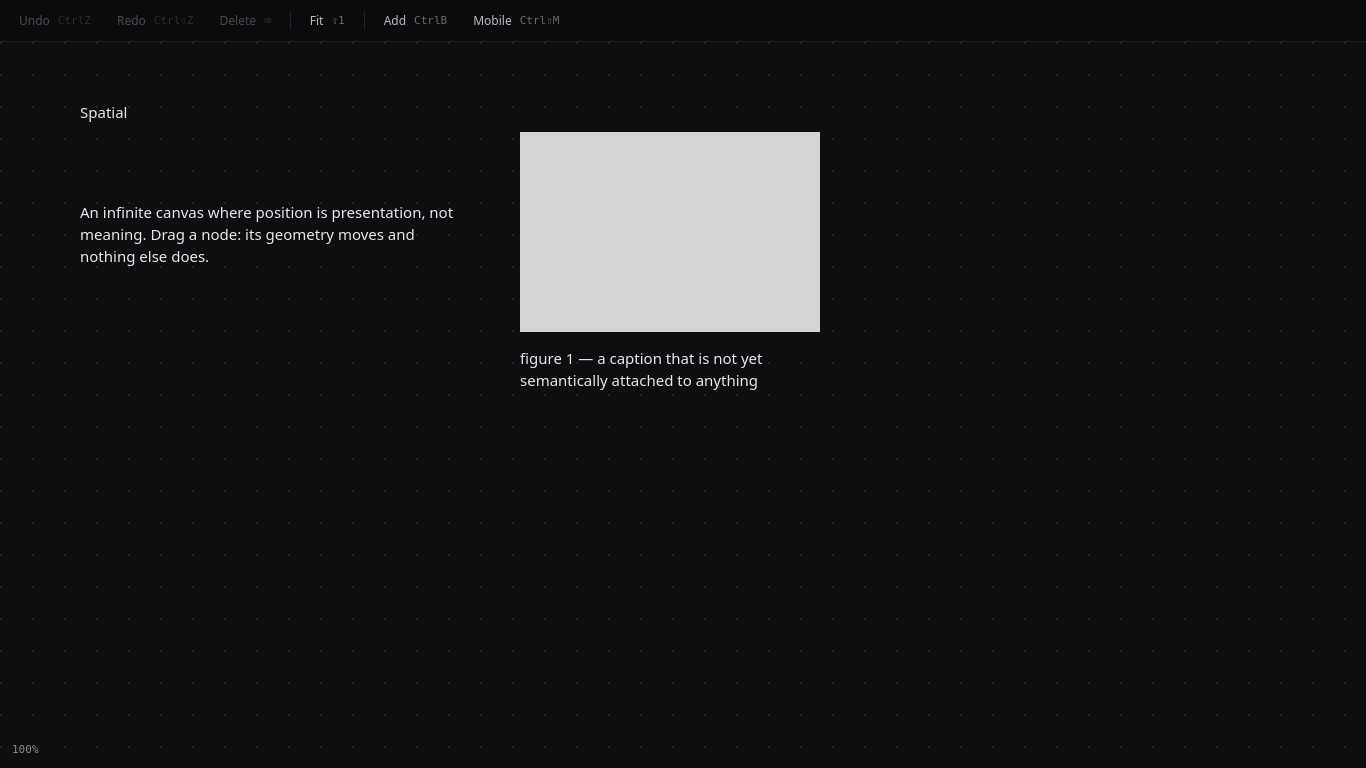
Scenario: adding an image › refuses an unsafe scheme, and says why
Click the button "Add": (415, 20) [373,6,458,35]
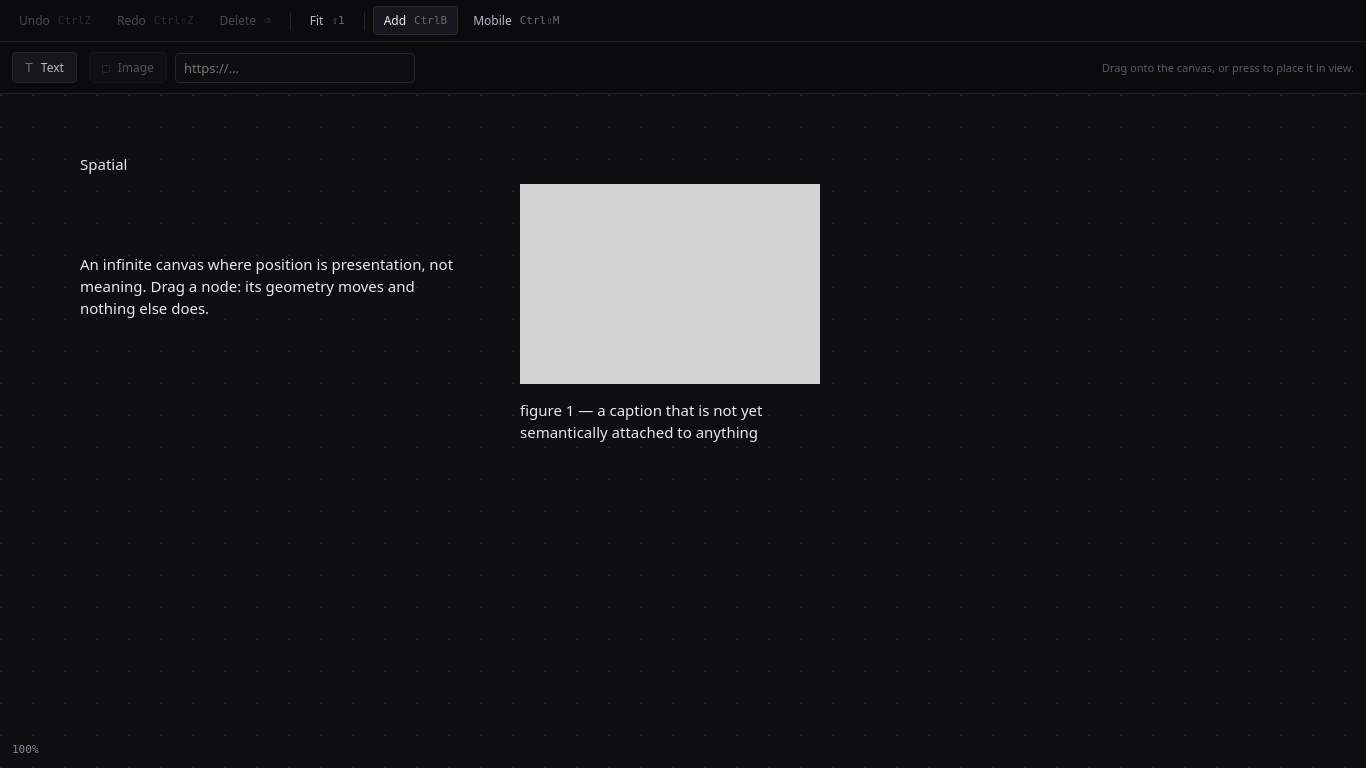
In the field named "image address": (295, 68) [175,52,415,82], type "javascript:alert(1)"
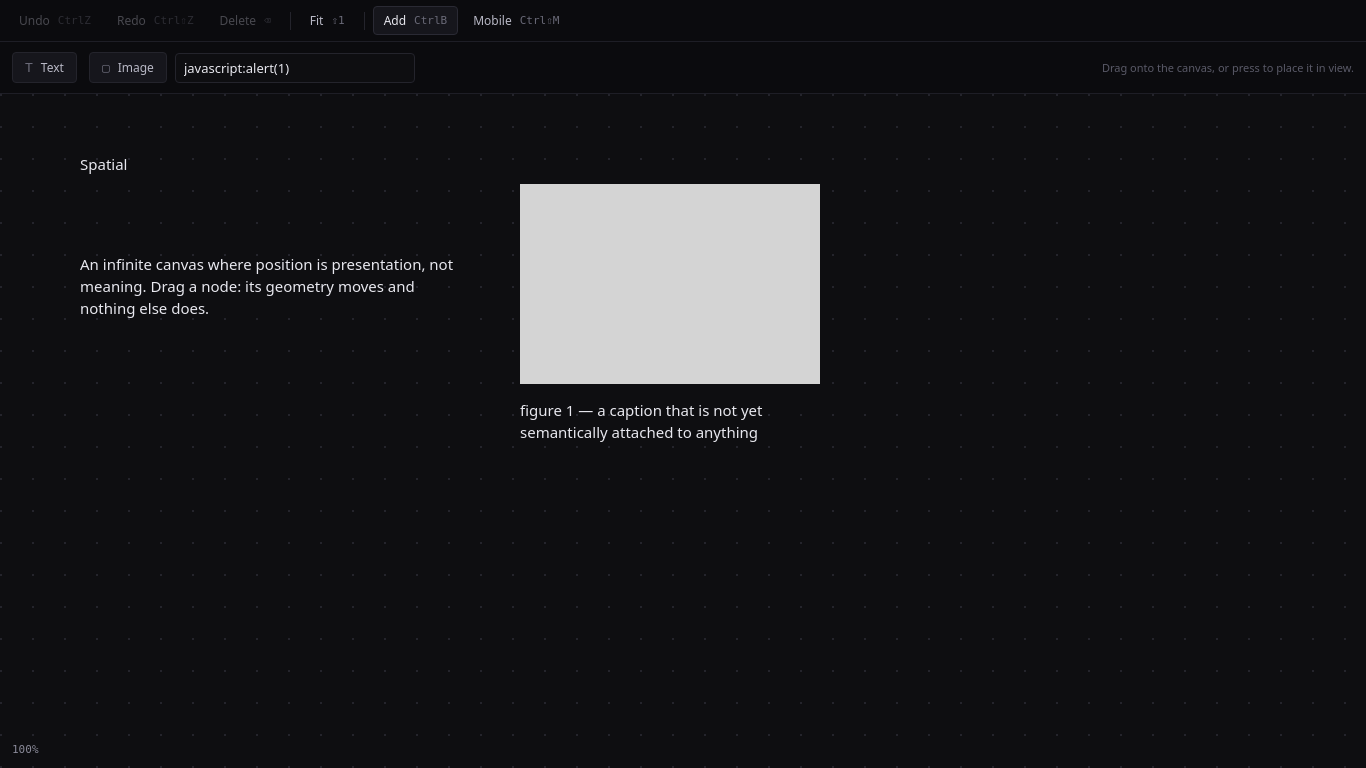
Click the button "▢ Image": (128, 68) [89,52,167,83]
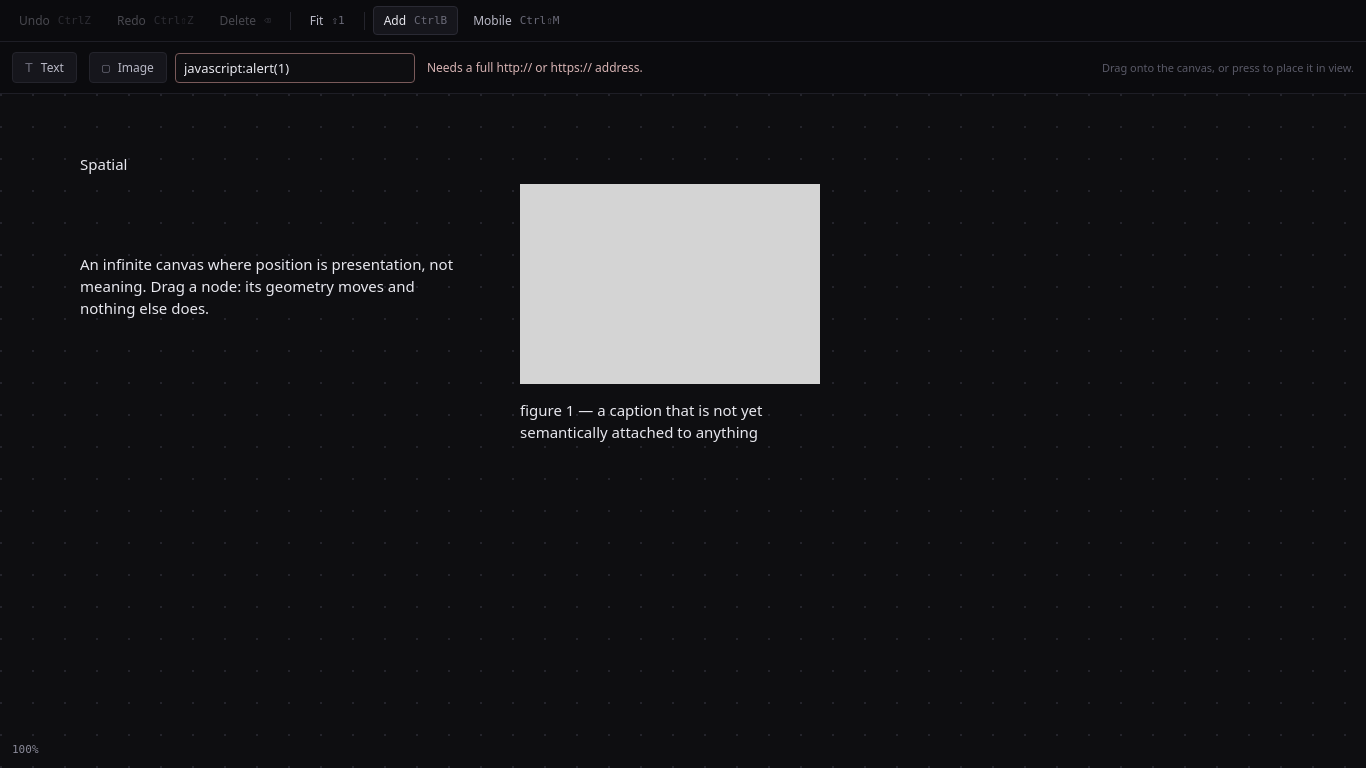
Expected: the message reads "Needs a full http:// or https:// address.", [427,59,643,76]
